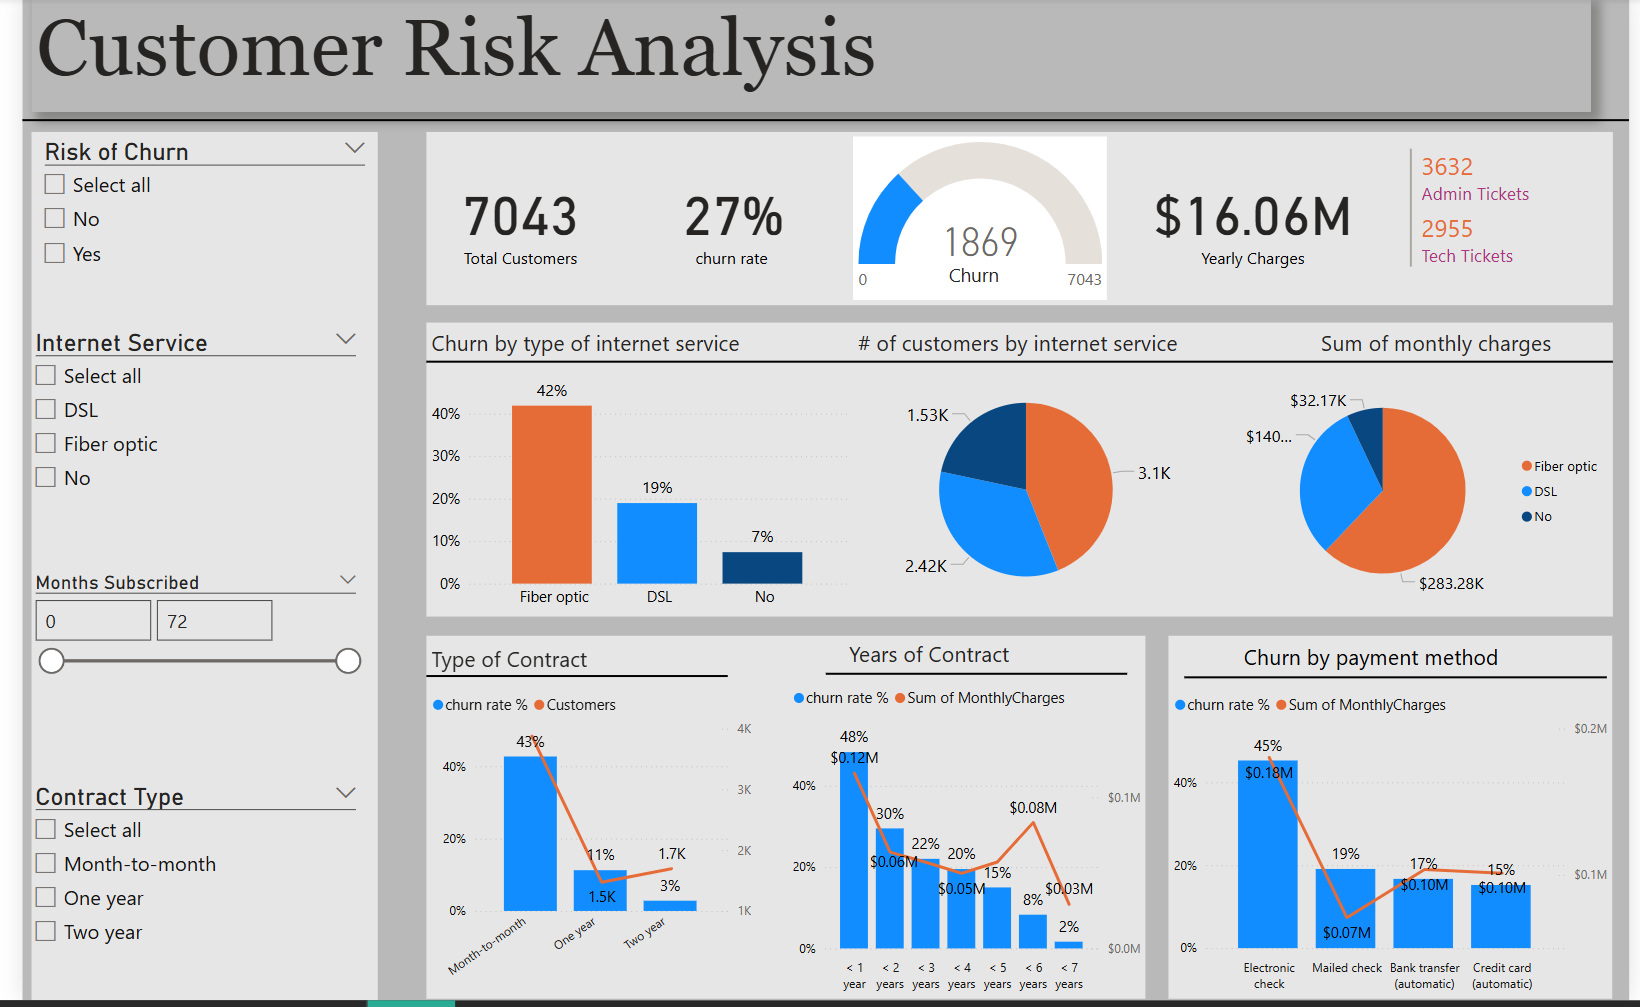

The dashboard page shown, as its layout file describes it:
{"tool":"powerbi","page":{"name":"Customer Risk Analysis","canvas":[1600,1000],"ordinal":1},"visuals":[{"type":"textbox","box":[9.4,0,1552,115.7],"z":0},{"type":"shape","box":[9.4,134.6,344.9,864.6],"z":1000},{"type":"slicer","fields":{"Values":["01 Churn-Dataset.Churn"]},"box":[9.4,134.6,344.9,172.4],"z":2000},{"type":"slicer","fields":{"Values":["01 Churn-Dataset.InternetService"]},"box":[0,326,344.9,200.8],"z":3000},{"type":"slicer","fields":{"Values":["01 Churn-Dataset.Contract"]},"box":[0,777.2,344.9,191.3],"z":4000},{"type":"slicer","fields":{"Values":["01 Churn-Dataset.tenure"]},"box":[0,566.9,344.9,184.3],"z":5000},{"type":"shape","box":[1141,637.8,441.7,361.4],"z":6000},{"type":"shape","box":[401.6,637.8,715.8,361.4],"z":7000},{"type":"shape","box":[401.6,326,1181.1,292.9],"z":8000},{"type":"shape","box":[401.6,134.6,1181.1,172.4],"z":9000},{"type":"card","fields":{"Values":["CountNonNull(01 Churn-Dataset.customerID)"]},"box":[401.6,146.5,186.6,151.2],"z":10000},{"type":"card","fields":{"Values":["Sum(01 Churn-Dataset.TotalCharges)"]},"box":[1117.3,146.5,212.6,151.2],"z":11000},{"type":"multiRowCard","fields":{"Values":["Sum(01 Churn-Dataset.numAdminTickets)","Sum(01 Churn-Dataset.numTechTickets)"]},"box":[1374.8,146.5,186.6,151.2],"z":12000},{"type":"card","fields":{"Values":["01 Churn-Dataset.churn rate %"]},"box":[614.2,146.5,186.6,151.2],"z":13000},{"type":"gauge","fields":{"Y":["01 Churn-Dataset.Count of Churn for Yes"],"MaxValue":["CountNonNull(01 Churn-Dataset.customerID)"]},"box":[826.8,139.4,252.8,163],"z":14000},{"type":"textbox","box":[916.5,259.8,75.6,37.8],"z":15000},{"type":"textbox","box":[401.6,326,328.3,49.6],"z":16000},{"type":"textbox","box":[826.8,326,347.2,40.2],"z":17000},{"type":"textbox","box":[1287.4,326,250.4,40.2],"z":18000},{"type":"columnChart","fields":{"Category":["01 Churn-Dataset.InternetService"],"Y":["01 Churn-Dataset.churn rate %"]},"box":[401.6,363.8,425.2,255.1],"z":19000},{"type":"shape","box":[0,108.7,1599.2,30.7],"z":20000},{"type":"shape","box":[401.6,352,1181.1,23.6],"z":21000},{"type":"pieChart","fields":{"Category":["01 Churn-Dataset.InternetService"],"Y":["CountNonNull(01 Churn-Dataset.customerID)"]},"box":[841,363.8,316.5,255.1],"z":22000},{"type":"pieChart","fields":{"Category":["01 Churn-Dataset.InternetService"],"Y":["Sum(01 Churn-Dataset.MonthlyCharges)"]},"box":[1211.8,366.1,370.9,252.8],"z":23000},{"type":"textbox","box":[1211.8,637.8,300,47.2],"z":24000},{"type":"lineClusteredColumnComboChart","fields":{"Y":["01 Churn-Dataset.churn rate %"],"Y2":["Sum(01 Churn-Dataset.MonthlyCharges)"],"Category":["01 Churn-Dataset.PaymentMethod"]},"box":[1141,685,441.7,314.2],"z":25000},{"type":"lineClusteredColumnComboChart","fields":{"Y":["01 Churn-Dataset.churn rate %"],"Y2":["Sum(01 Churn-Dataset.MonthlyCharges)"],"Category":["01 Churn-Dataset.Loyalty"]},"box":[760.6,678,356.7,321.3],"z":26000},{"type":"lineClusteredColumnComboChart","fields":{"Y":["01 Churn-Dataset.churn rate %"],"Category":["01 Churn-Dataset.Contract"],"Y2":["CountNonNull(01 Churn-Dataset.customerID)"]},"box":[401.6,685,328.3,314.2],"z":27000},{"type":"shape","box":[1157.5,661.4,420.5,33.1],"z":28000},{"type":"textbox","box":[817.3,635.4,300,47.2],"z":29000},{"type":"shape","box":[800.8,661.4,300,26],"z":30000},{"type":"textbox","box":[401.6,640.2,212.6,40.2],"z":31000},{"type":"shape","box":[401.6,663.8,300,26],"z":32000}]}

Visuals, with their boxes in screenshot pixels (x1, y1, x2, y2), scaled from the page's 1600x1000 canvas onto the 1640x1007 screenshot:
textbox: [10, 0, 1600, 117]
shape: [10, 136, 363, 1006]
slicer - 01 Churn-Dataset.Churn: [10, 136, 363, 309]
slicer - 01 Churn-Dataset.InternetService: [0, 328, 354, 530]
slicer - 01 Churn-Dataset.Contract: [0, 783, 354, 975]
slicer - 01 Churn-Dataset.tenure: [0, 571, 354, 756]
shape: [1170, 642, 1622, 1006]
shape: [412, 642, 1145, 1006]
shape: [412, 328, 1622, 623]
shape: [412, 136, 1622, 309]
card - CountNonNull(01 Churn-Dataset.customerID): [412, 148, 603, 300]
card - Sum(01 Churn-Dataset.TotalCharges): [1145, 148, 1363, 300]
multiRowCard - Sum(01 Churn-Dataset.numAdminTickets) x Sum(01 Churn-Dataset.numTechTickets): [1409, 148, 1600, 300]
card - 01 Churn-Dataset.churn rate %: [630, 148, 821, 300]
gauge - 01 Churn-Dataset.Count of Churn for Yes x CountNonNull(01 Churn-Dataset.customerID): [847, 140, 1107, 305]
textbox: [939, 262, 1017, 300]
textbox: [412, 328, 748, 378]
textbox: [847, 328, 1203, 369]
textbox: [1320, 328, 1576, 369]
columnChart - 01 Churn-Dataset.InternetService x 01 Churn-Dataset.churn rate %: [412, 366, 847, 623]
shape: [0, 109, 1639, 140]
shape: [412, 354, 1622, 378]
pieChart - 01 Churn-Dataset.InternetService x CountNonNull(01 Churn-Dataset.customerID): [862, 366, 1186, 623]
pieChart - 01 Churn-Dataset.InternetService x Sum(01 Churn-Dataset.MonthlyCharges): [1242, 369, 1622, 623]
textbox: [1242, 642, 1550, 690]
lineClusteredColumnComboChart - 01 Churn-Dataset.churn rate % x Sum(01 Churn-Dataset.MonthlyCharges): [1170, 690, 1622, 1006]
lineClusteredColumnComboChart - 01 Churn-Dataset.churn rate % x Sum(01 Churn-Dataset.MonthlyCharges): [780, 683, 1145, 1006]
lineClusteredColumnComboChart - 01 Churn-Dataset.churn rate % x 01 Churn-Dataset.Contract: [412, 690, 748, 1006]
shape: [1186, 666, 1617, 699]
textbox: [838, 640, 1145, 687]
shape: [821, 666, 1128, 692]
textbox: [412, 645, 630, 685]
shape: [412, 668, 719, 695]
